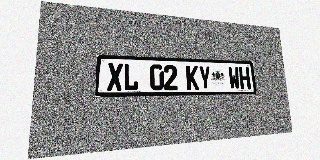0: (150, 64, 164, 90)
2: (164, 65, 178, 90)
H: (239, 67, 251, 89)
K: (186, 65, 199, 90)
L: (123, 63, 138, 91)
W: (228, 67, 240, 89)
X: (107, 63, 123, 91)
Y: (198, 66, 211, 90)
